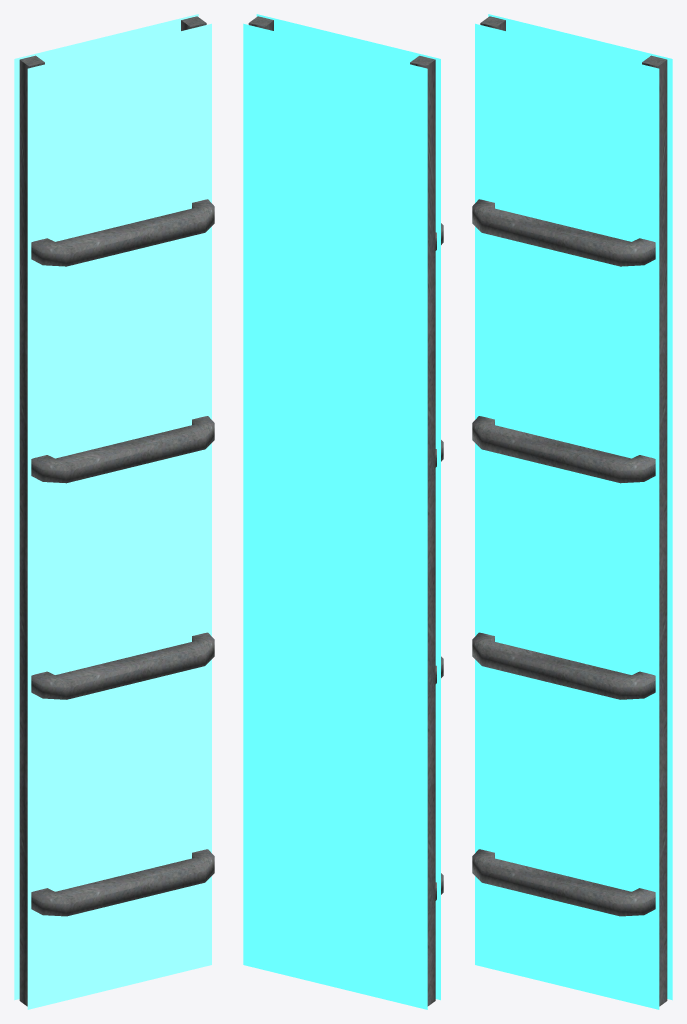
The model's file is vt49_ladder_l1.fbx.
The picture shows the model from 3 angles, left to right: view 1: azimuth 30°, elevation 25°; view 2: azimuth 150°, elevation 25°; view 3: azimuth 330°, elevation 25°; orthographic projection.
Visible parts, largest first — view 1: mesh_node; view 2: mesh_node; view 3: mesh_node.
Part boxes in pixels (left/top/right/bottom): mesh_node: left=14, top=14, right=214, bottom=1009; mesh_node: left=243, top=14, right=443, bottom=1009; mesh_node: left=472, top=14, right=672, bottom=1009.
Size of the model in its own units: 0.5345 by 2.61 by 0.148.
